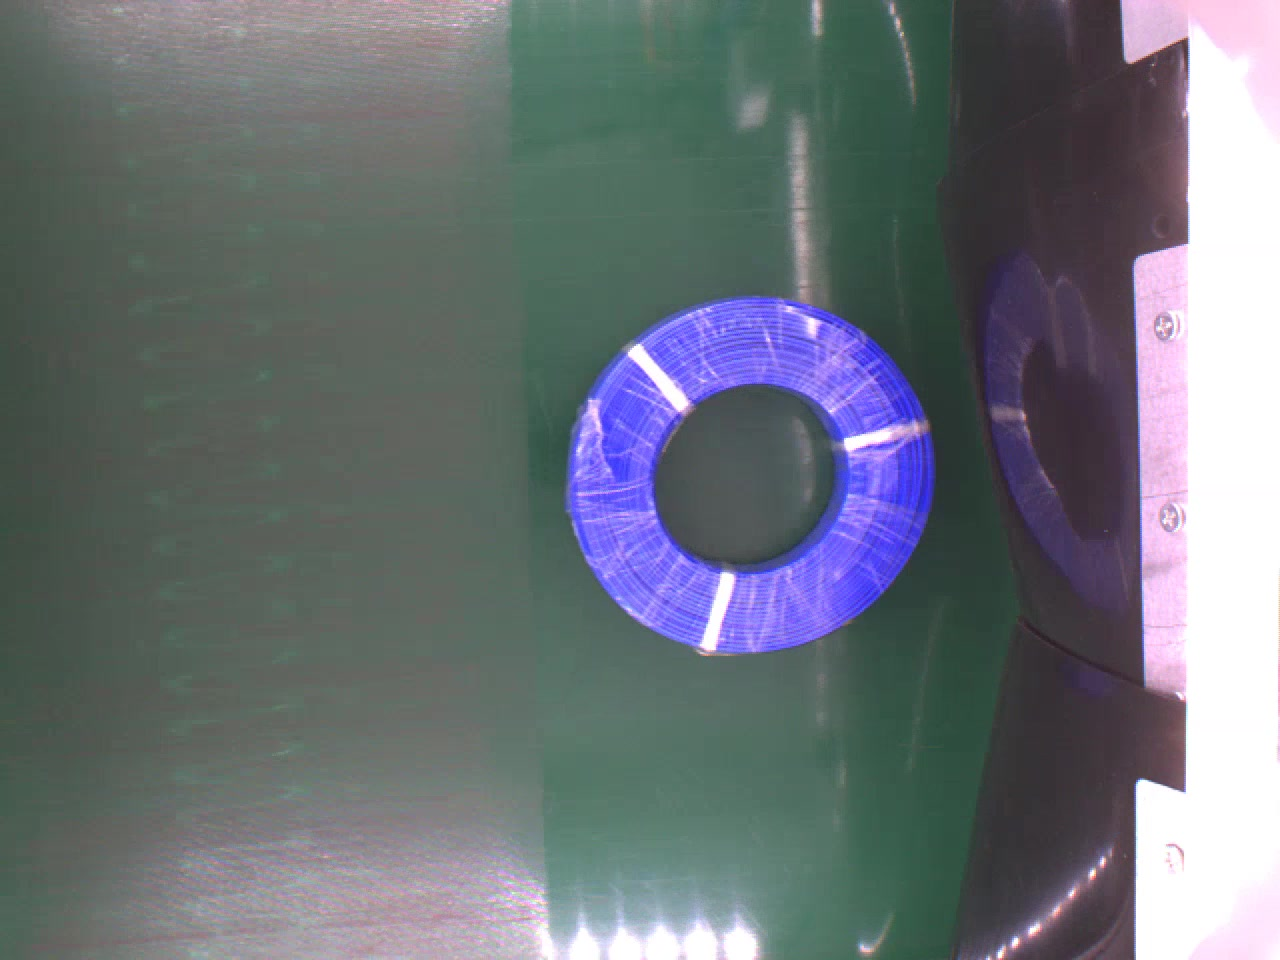blue: (565, 292, 939, 655)
